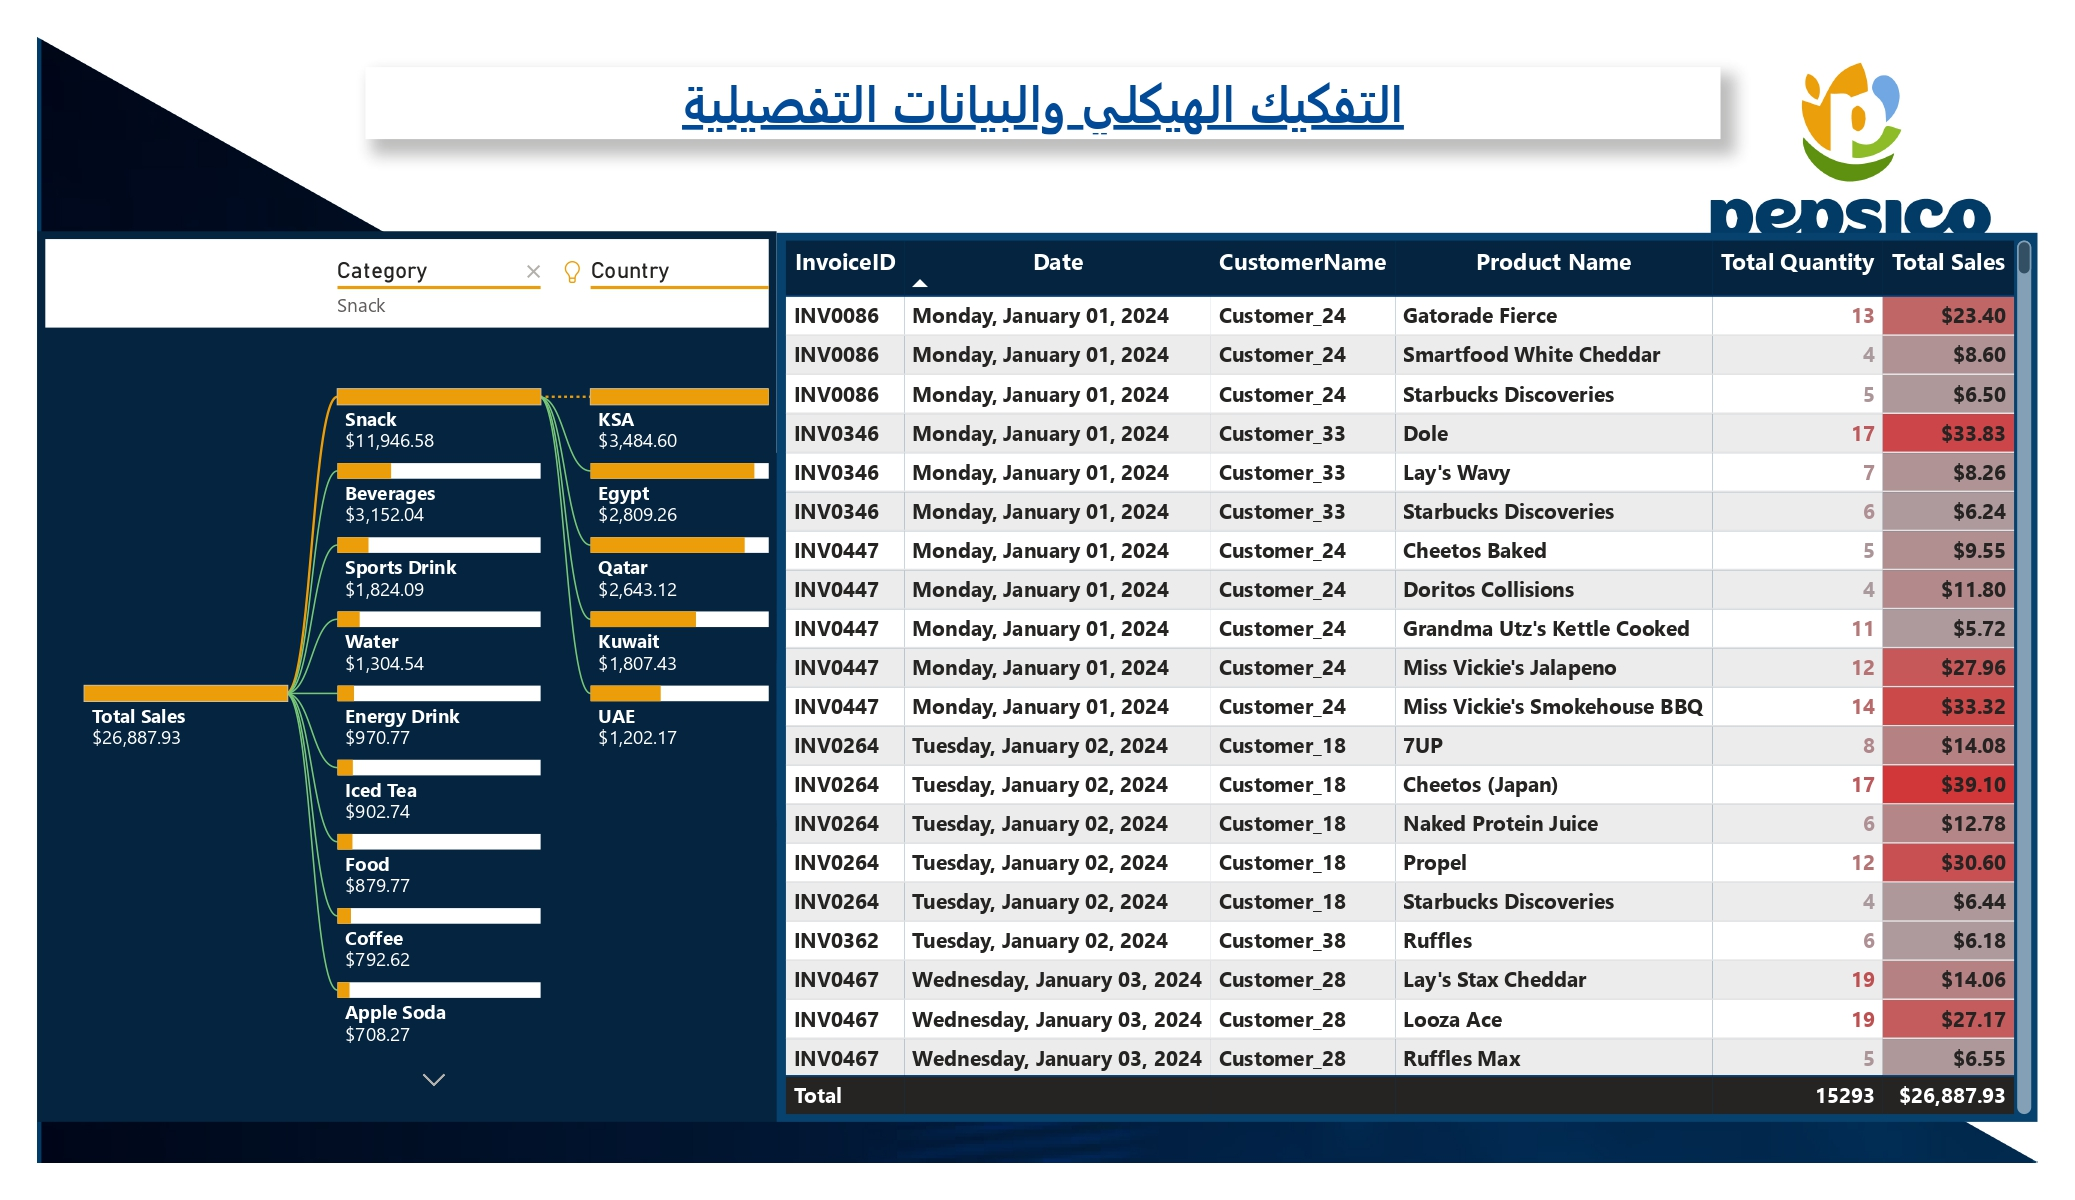

Layout of this report page (visuals, bound fields, positions):
{"tool":"powerbi","page":{"name":"Details","canvas":[1280,720],"ordinal":5},"visuals":[{"type":"decompositionTreeVisual","fields":{"Analyze":["InvoiceDetails.Total Sales"],"ExplainBy":["Products.Category","Customers.Country","Products.Product Name","Shippers.ShipperName"]},"box":[0,124.4,473.1,569.2],"z":0},{"type":"tableEx","fields":{"Values":["Invoices.InvoiceID","Invoices.Date","Customers.CustomerName","Products.Product Name","InvoiceDetails.Total Quantity","InvoiceDetails.Total Sales"]},"box":[473.1,125,807.7,569.2],"z":1000},{"type":"textbox","title":"التفكيك الهيكلي والبيانات التفصيلية","box":[209.6,19.2,867.3,46.2],"z":2000}]}

Visuals, with their boxes on the page's 1280x720 design canvas (x1, y1, x2, y2). These are canvas units, not pixel positions in the 2075x1200 screenshot, which may show the page scaled, cropped or inside an application window:
decompositionTreeVisual - InvoiceDetails.Total Sales x Products.Category: [0,124,473,694]
tableEx - Invoices.InvoiceID x Invoices.Date: [473,125,1281,694]
"التفكيك الهيكلي والبيانات التفصيلية" textbox: [210,19,1077,65]
